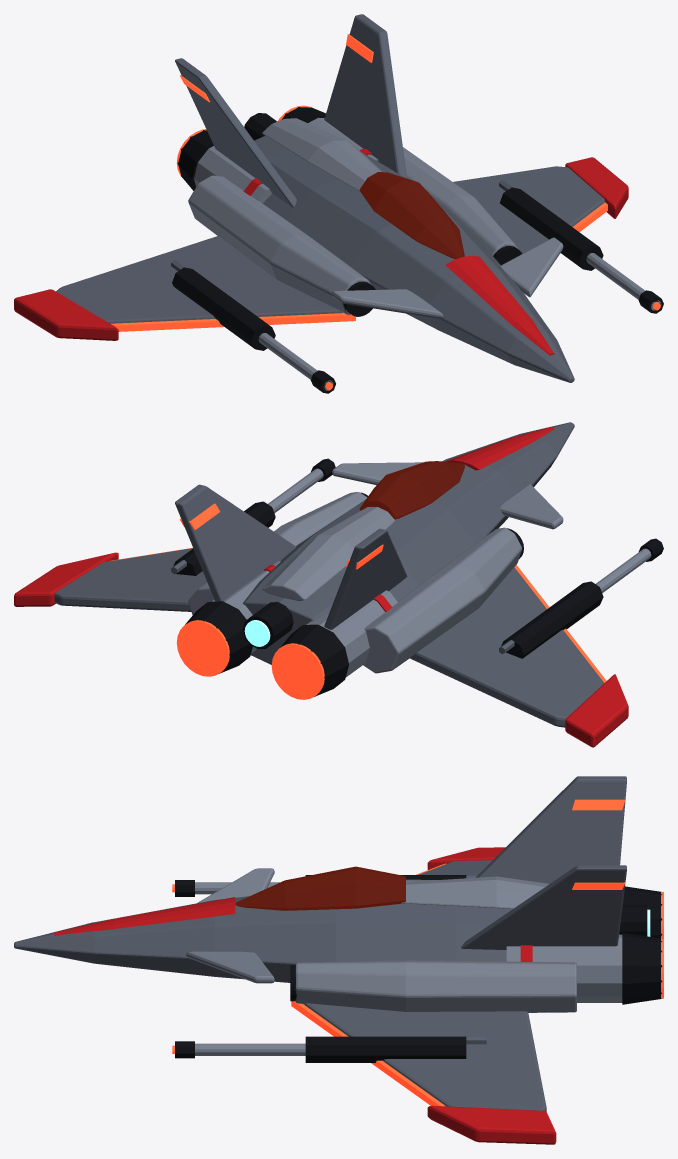
File: spiral_raptor.glb
The picture shows the model from 3 angles, top to bottom: view 1: azimuth 30°, elevation 25°; view 2: azimuth 150°, elevation 25°; view 3: azimuth 270°, elevation 25°; orthographic projection.
Parts seen in each view (by area): view 1: Hull, WingL, IntakeL, TailFinR, WingR, Canopy, TailFinL, Spine, IntakeR, WingTipL, CannonBodyL, NoseStripe (+9 smaller); view 2: Hull, WingL, IntakeL, TailFinR, WingR, Spine, TailFinL, Canopy, CannonBodyL, WingTipL, ExhaustRingL, ExhaustRingR (+14 smaller); view 3: Hull, IntakeR, WingR, TailFinL, TailFinR, Canopy, CannonBodyR, WingTipR, NacelleR, Spine, NozzleR, NoseStripe (+9 smaller).
Boxes of the visible parts, bbox=[...] form: Hull: bbox=[254, 135, 574, 382]; WingL: bbox=[56, 236, 342, 323]; IntakeL: bbox=[188, 175, 371, 316]; TailFinR: bbox=[324, 14, 406, 178]; WingR: bbox=[453, 166, 604, 253]; Canopy: bbox=[359, 172, 464, 259]; TailFinL: bbox=[175, 58, 296, 207]; Spine: bbox=[262, 118, 382, 192]; IntakeR: bbox=[403, 147, 518, 255]; WingTipL: bbox=[14, 289, 118, 340]; CannonBodyL: bbox=[172, 267, 275, 350]; NoseStripe: bbox=[445, 255, 554, 355]; Hull: bbox=[243, 422, 574, 664]; WingL: bbox=[410, 567, 603, 727]; IntakeL: bbox=[363, 527, 522, 673]; TailFinR: bbox=[175, 484, 296, 601]; WingR: bbox=[54, 548, 206, 611]; Spine: bbox=[262, 507, 396, 600]; TailFinL: bbox=[324, 528, 407, 629]; Canopy: bbox=[359, 461, 464, 519]; CannonBodyL: bbox=[501, 581, 603, 658]; WingTipL: bbox=[565, 674, 628, 747]; ExhaustRingL: bbox=[271, 643, 324, 699]; ExhaustRingR: bbox=[176, 620, 229, 676]; Hull: bbox=[14, 896, 511, 982]; IntakeR: bbox=[295, 960, 576, 1012]; WingR: bbox=[303, 1003, 546, 1111]; TailFinL: bbox=[476, 776, 626, 883]; TailFinR: bbox=[461, 865, 626, 949]; Canopy: bbox=[235, 866, 405, 910]; CannonBodyR: bbox=[305, 1036, 466, 1062]; WingTipR: bbox=[427, 1105, 556, 1144]; NacelleR: bbox=[506, 934, 622, 1002]; Spine: bbox=[400, 876, 549, 909]; NozzleR: bbox=[622, 932, 662, 1004]; NoseStripe: bbox=[54, 897, 235, 935].
Bounding box in the file's own units: 0.673 × 0.1981 × 0.6465.
